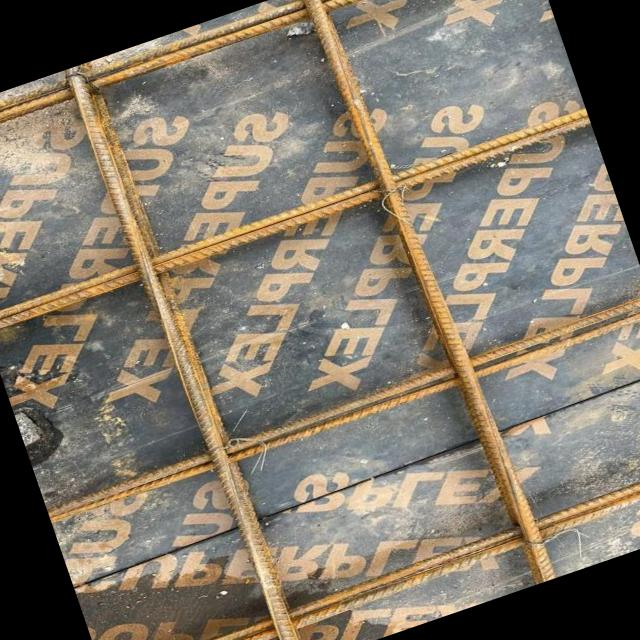ribbed bar: (298, 0, 560, 593), (63, 55, 314, 640), (0, 107, 592, 334), (45, 293, 640, 516), (50, 308, 640, 525), (101, 456, 640, 640), (0, 0, 530, 154)
